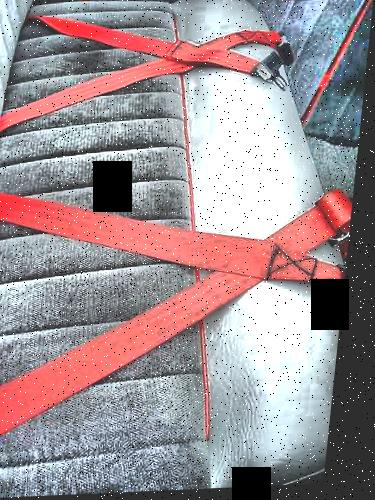seatbelt: (0, 191, 354, 421), (0, 167, 342, 309), (0, 24, 301, 122), (31, 0, 304, 106)
